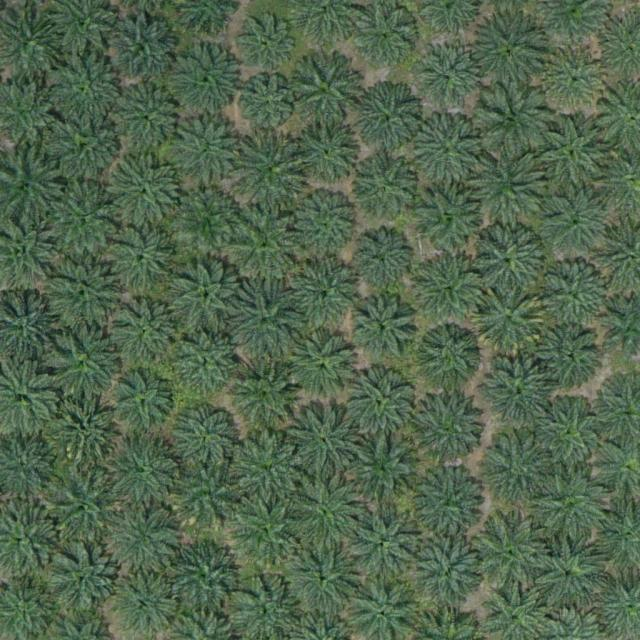Healthy: (532, 118, 610, 197), (468, 226, 546, 305), (464, 150, 542, 229), (479, 85, 557, 164), (473, 12, 551, 91), (411, 180, 489, 259), (225, 286, 303, 365), (234, 132, 312, 211), (169, 263, 247, 342), (533, 396, 611, 475), (44, 256, 122, 335), (44, 182, 122, 261), (49, 110, 127, 189), (49, 57, 127, 136), (51, 387, 129, 466), (45, 464, 123, 543), (46, 544, 124, 623), (105, 506, 183, 585), (106, 437, 184, 516), (166, 539, 244, 618), (284, 473, 362, 552), (286, 538, 364, 617), (411, 391, 489, 470), (413, 464, 491, 543), (471, 516, 549, 595), (476, 433, 554, 512), (479, 353, 557, 432), (531, 472, 609, 551), (528, 537, 606, 616), (411, 250, 489, 328), (285, 402, 363, 480), (348, 503, 426, 581), (348, 433, 426, 511), (411, 535, 489, 613), (540, 259, 611, 330), (289, 56, 360, 127), (291, 186, 362, 257), (107, 224, 178, 295), (115, 301, 186, 372), (540, 45, 610, 116), (417, 42, 487, 113), (113, 159, 183, 230), (50, 330, 120, 401), (173, 329, 243, 400), (231, 356, 301, 427), (231, 432, 302, 502), (174, 465, 245, 535), (291, 332, 361, 403), (542, 188, 612, 258), (414, 119, 484, 189), (352, 85, 422, 155), (294, 262, 364, 332), (227, 210, 297, 280), (172, 49, 242, 119), (172, 119, 242, 189), (170, 404, 240, 474), (537, 323, 600, 386), (354, 158, 417, 221), (295, 123, 358, 186), (174, 189, 237, 252), (112, 373, 175, 436), (419, 323, 481, 386), (353, 298, 415, 361), (348, 231, 410, 294), (353, 7, 415, 70), (236, 76, 298, 139), (234, 13, 296, 76), (107, 21, 169, 84), (124, 88, 186, 151), (236, 498, 298, 561), (350, 374, 412, 437)
Yellow: (473, 286, 551, 364)
